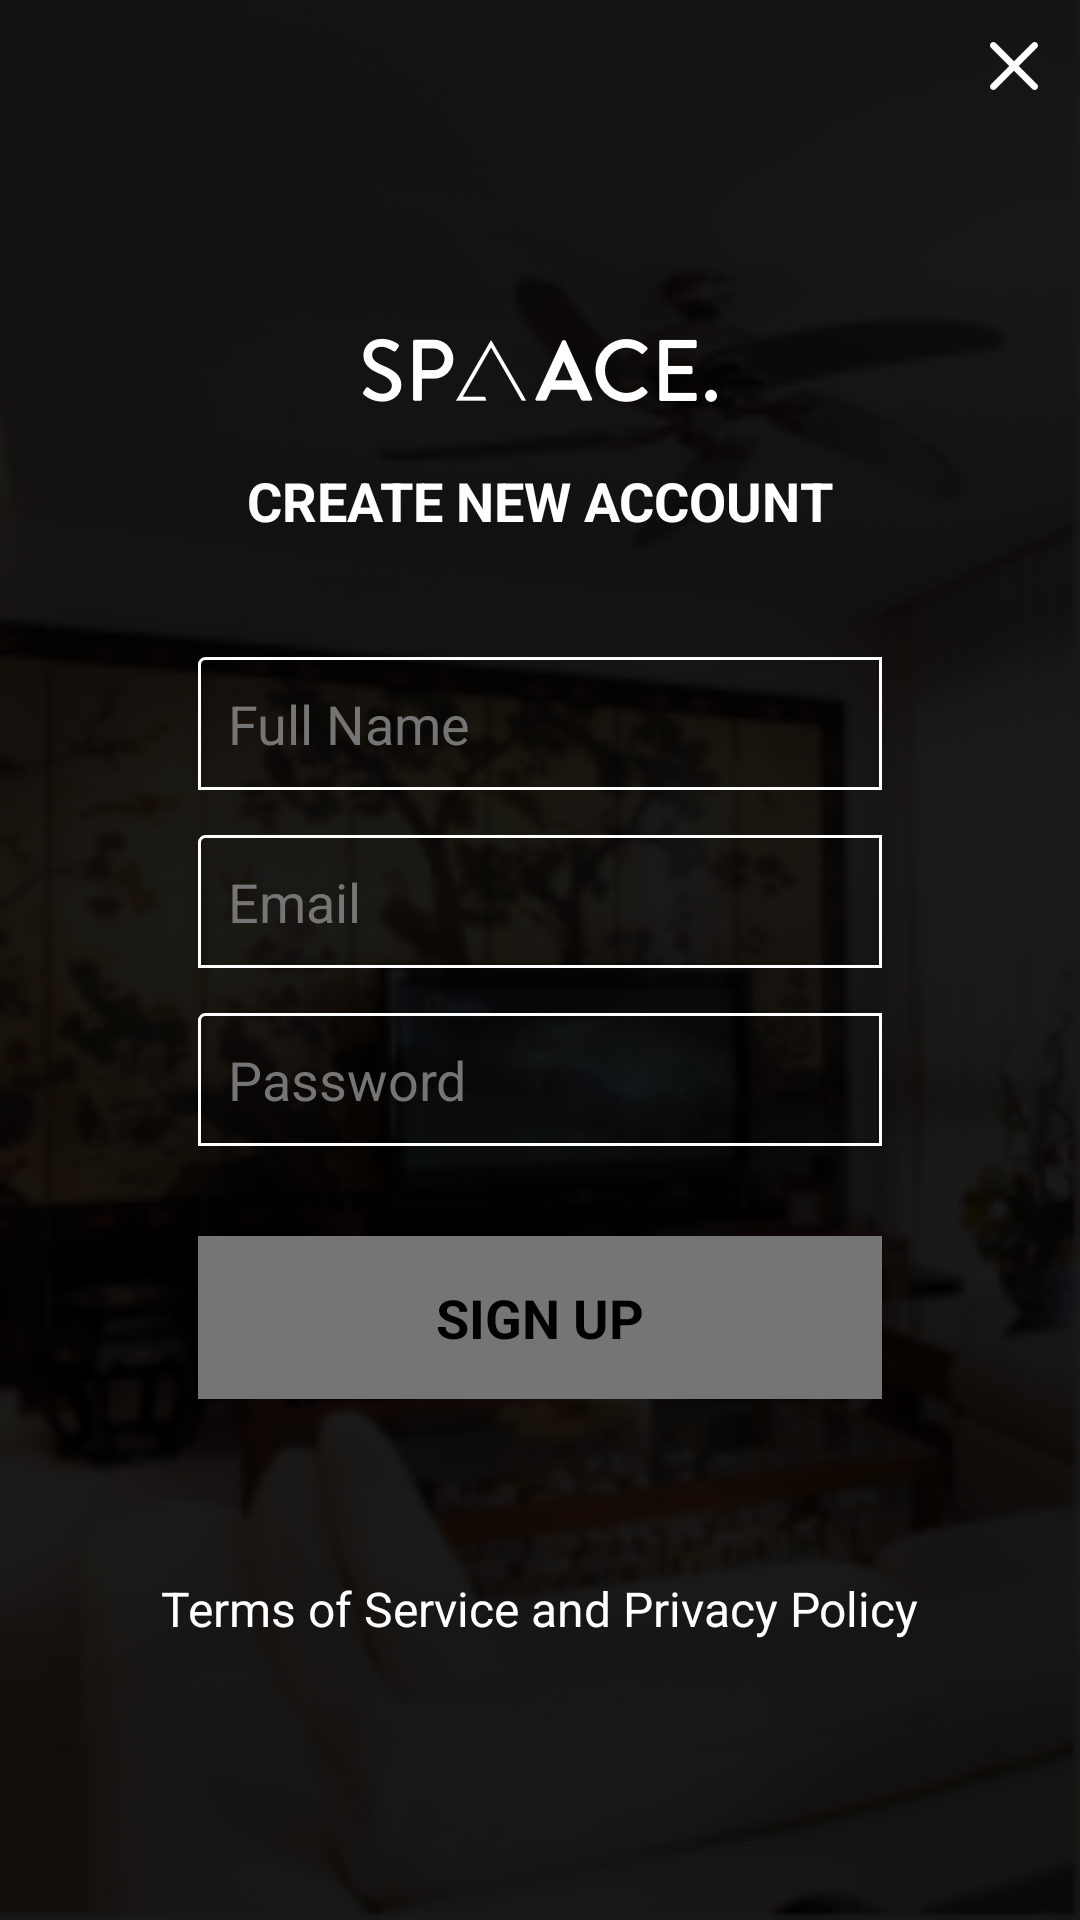

Where to tap for icons on this 1080×1920 app screen, as (x,y):
close: (1014,66)
